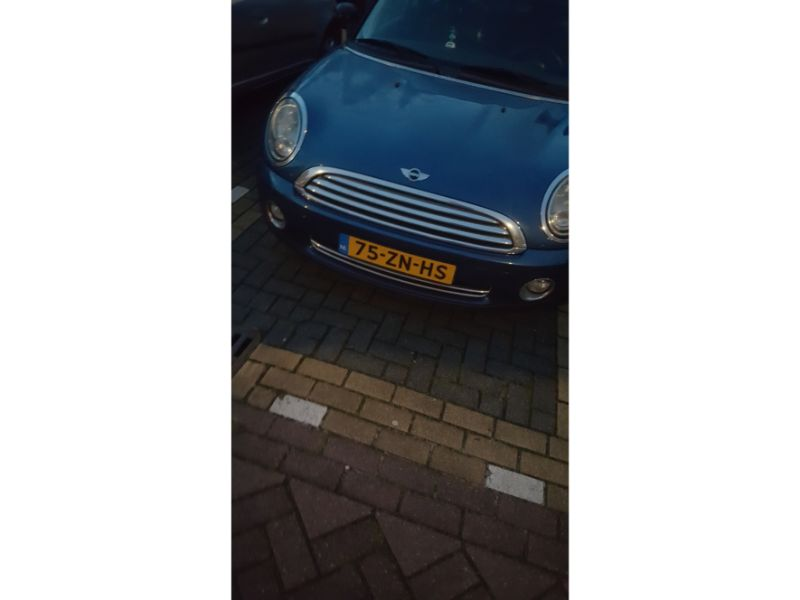kenteken: (335, 235, 459, 287)
